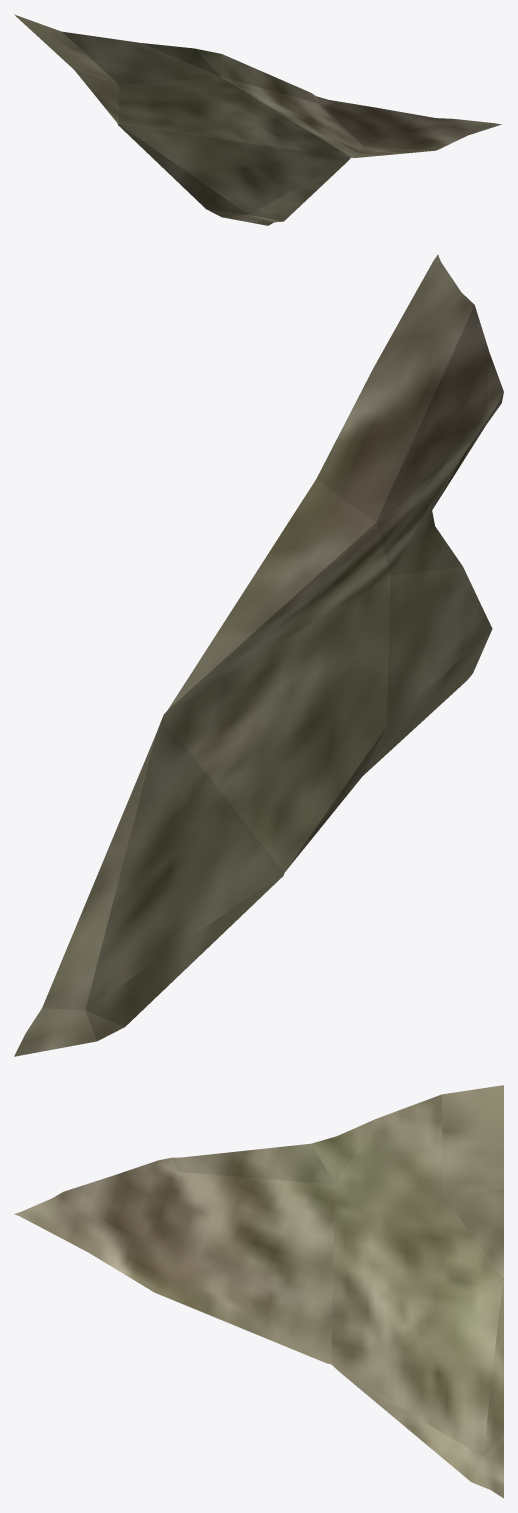
3 renders of one model, top to bottom at view 1: azimuth 30°, elevation 25°; view 2: azimuth 150°, elevation 25°; view 3: azimuth 270°, elevation 25°, orthographic. The views are drawn at different scales.
Size of the model in its own units: 0.3358 by 0.3457 by 0.5397.
1 material, 1 textured.
